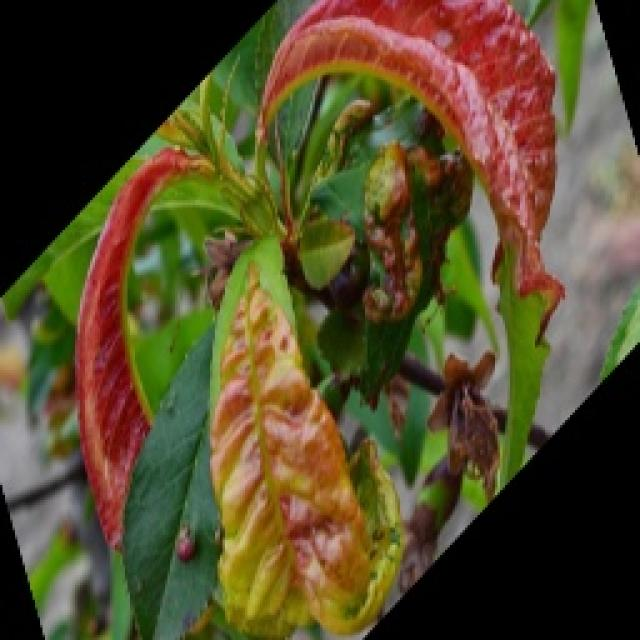peach_leaf_curl: (70, 0, 565, 638), (255, 0, 565, 340)
